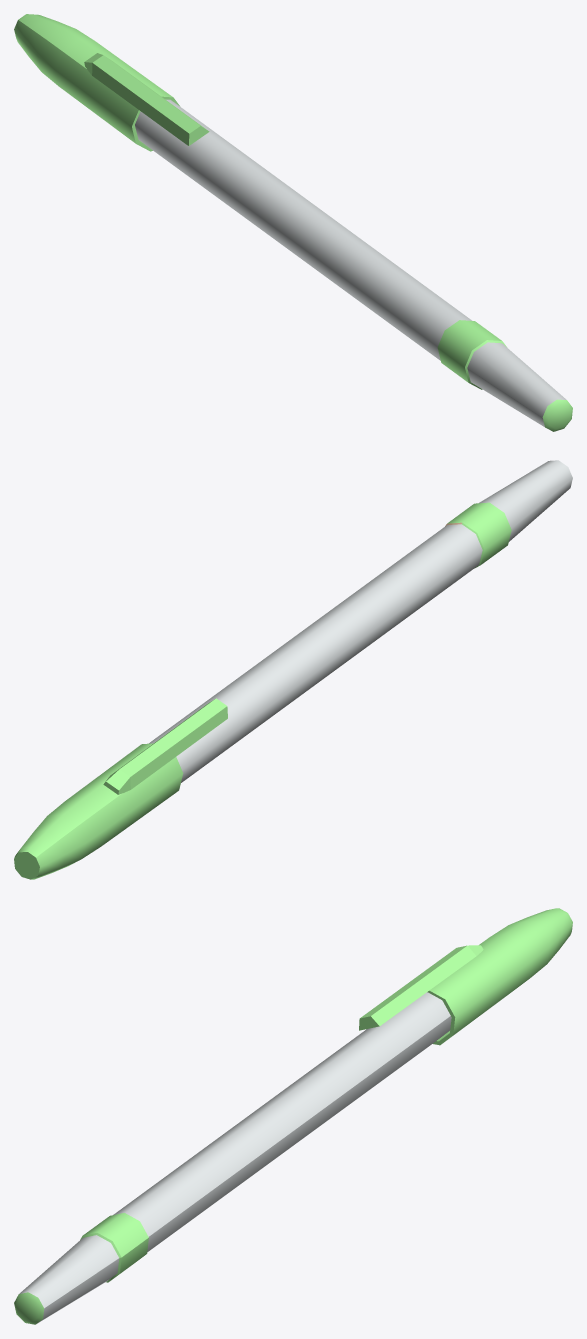
The model's file is 초록볼펜.fbx.
3 views of the same model, one above another, from view 1: azimuth 30°, elevation 25°; view 2: azimuth 150°, elevation 25°; view 3: azimuth 330°, elevation 25° (orthographic).
Visible parts, largest first — view 1: pen.002, hood_01.002; view 2: pen.002, hood_01.002; view 3: pen.002, hood_01.002.
Boxes of the visible parts, bbox=[...] form: pen.002: bbox=[135, 99, 572, 431]; hood_01.002: bbox=[14, 14, 209, 151]; pen.002: bbox=[149, 460, 572, 782]; hood_01.002: bbox=[14, 698, 227, 879]; pen.002: bbox=[14, 992, 451, 1324]; hood_01.002: bbox=[359, 908, 572, 1045].
Size of the model in its own units: 89.58 by 104 by 1601.
